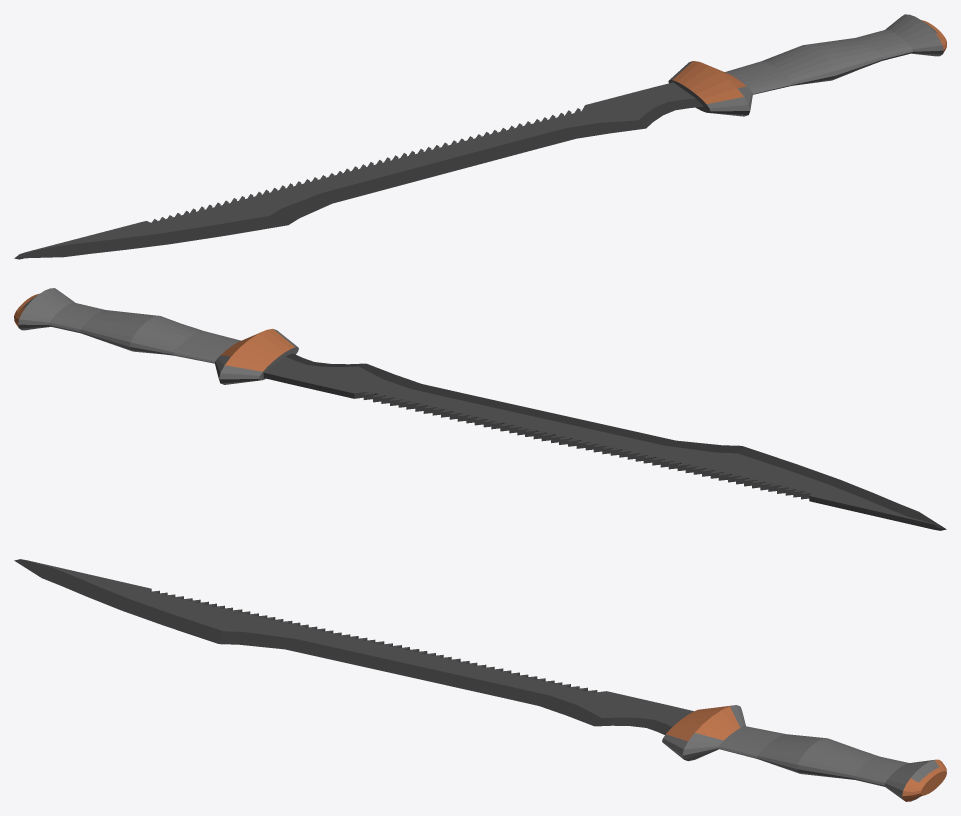
File: Katana_Model.fbx
The picture shows the model from 3 angles, top to bottom: view 1: azimuth 30°, elevation 25°; view 2: azimuth 150°, elevation 25°; view 3: azimuth 330°, elevation 25°; orthographic projection.
Visible parts, largest first — view 1: pCylinder2; view 2: pCylinder2; view 3: pCylinder2.
Boxes of the visible parts, x1,y1,x2,y2 form: pCylinder2: (14, 14, 946, 259); pCylinder2: (14, 288, 946, 530); pCylinder2: (14, 559, 946, 801).
Size of the model in its own units: 9.57 by 0.3343 by 1.13.
